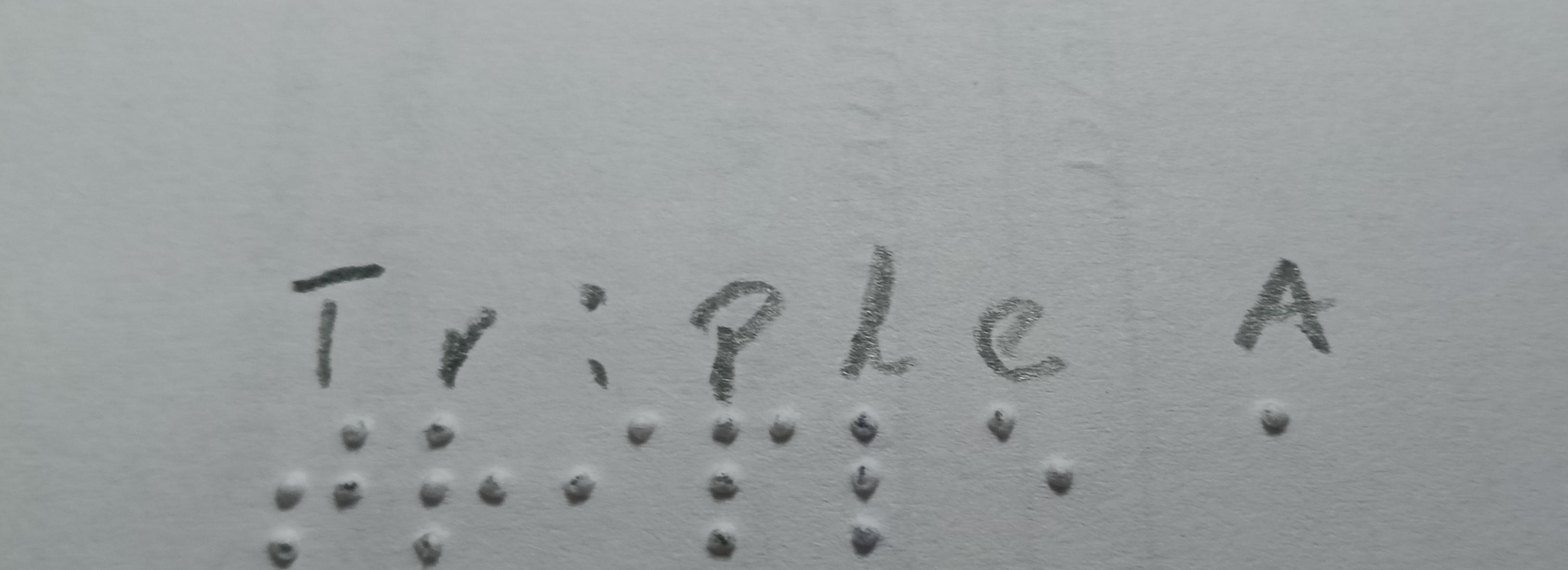a: (1208, 383, 1350, 461)
e: (967, 396, 1086, 508)
i: (540, 410, 672, 509)
l: (828, 401, 914, 559)
p: (686, 410, 803, 554)
r: (403, 413, 518, 570)
t: (242, 409, 380, 569)
